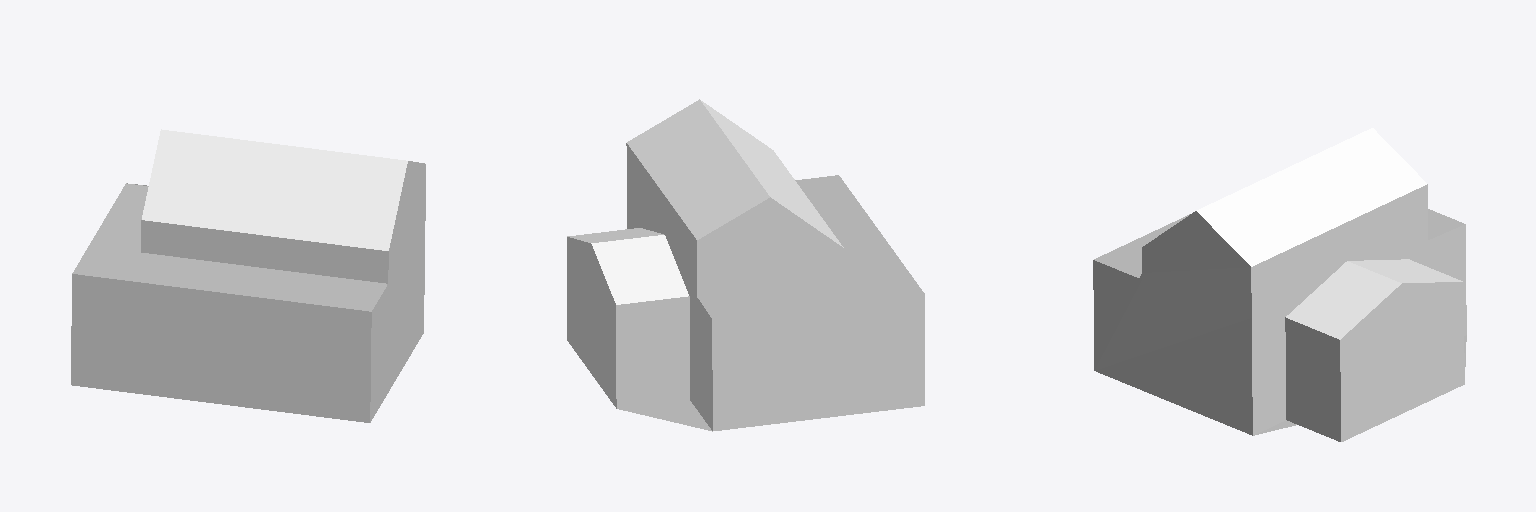
Rendered from house_Shape 335.obj.
The picture shows the model from 3 angles: view 1: azimuth 30°, elevation 25°; view 2: azimuth 150°, elevation 25°; view 3: azimuth 270°, elevation 25°; orthographic projection.
Parts seen in each view (by area): view 1: CityEngineMaterial_26, CityEngineMaterial_8, CityEngineMaterial_225, CityEngineMaterial_27, CityEngineMaterial_226; view 2: CityEngineMaterial_27, CityEngineMaterial_8, CityEngineMaterial_225, CityEngineMaterial_26, CityEngineMaterial_226; view 3: CityEngineMaterial_26, CityEngineMaterial_8, CityEngineMaterial_27, CityEngineMaterial_226, CityEngineMaterial_225.
Boxes of the visible parts, box(x1,y1,x2,y2) form: CityEngineMaterial_26: box(71, 215, 425, 422); CityEngineMaterial_8: box(142, 129, 407, 250); CityEngineMaterial_225: box(72, 183, 386, 311); CityEngineMaterial_27: box(127, 183, 388, 283); CityEngineMaterial_226: box(388, 161, 425, 276); CityEngineMaterial_27: box(567, 195, 924, 430); CityEngineMaterial_8: box(567, 99, 843, 304); CityEngineMaterial_225: box(597, 175, 924, 431); CityEngineMaterial_26: box(616, 192, 689, 408); CityEngineMaterial_226: box(580, 143, 696, 295); CityEngineMaterial_26: box(1093, 260, 1340, 441); CityEngineMaterial_8: box(1197, 128, 1462, 339); CityEngineMaterial_27: box(1252, 224, 1466, 441); CityEngineMaterial_226: box(1142, 184, 1435, 317); CityEngineMaterial_225: box(1094, 209, 1466, 435).
Size of the model in its own units: 13.61 by 7.94 by 12.86.